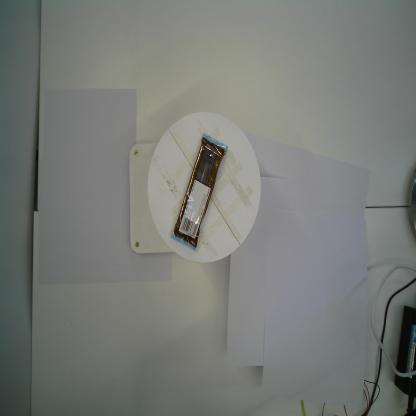Chocolate: (169, 132, 228, 253)
